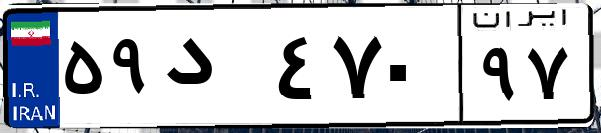0: (385, 28, 445, 110)
4: (270, 28, 330, 110)
5: (57, 26, 110, 100)
7: (330, 28, 385, 110), (525, 38, 570, 115)
9: (475, 38, 525, 113), (110, 28, 158, 98)
د: (158, 20, 270, 120)
